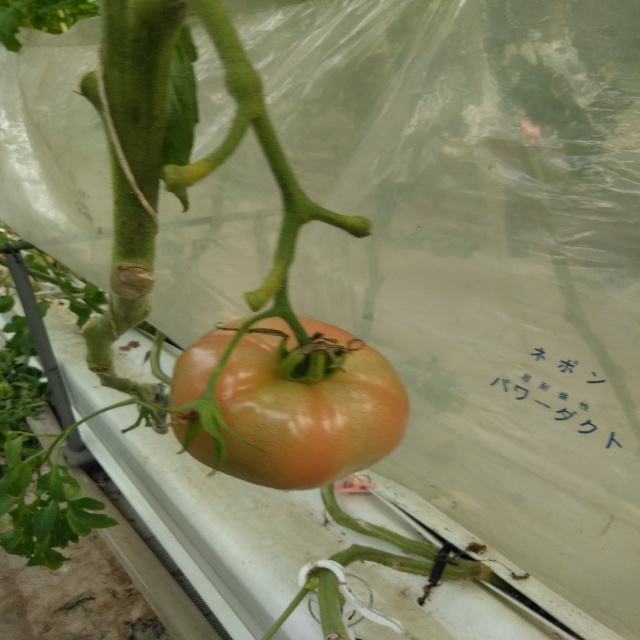b_half_ripened: (170, 313, 412, 491)
